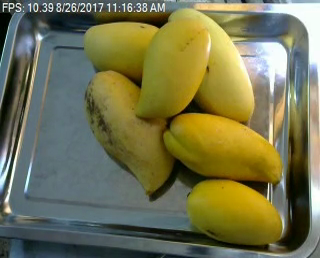Mango: (84, 71, 176, 192), (168, 7, 255, 119), (163, 114, 281, 184), (137, 18, 210, 117), (186, 178, 282, 242), (84, 21, 160, 82)
